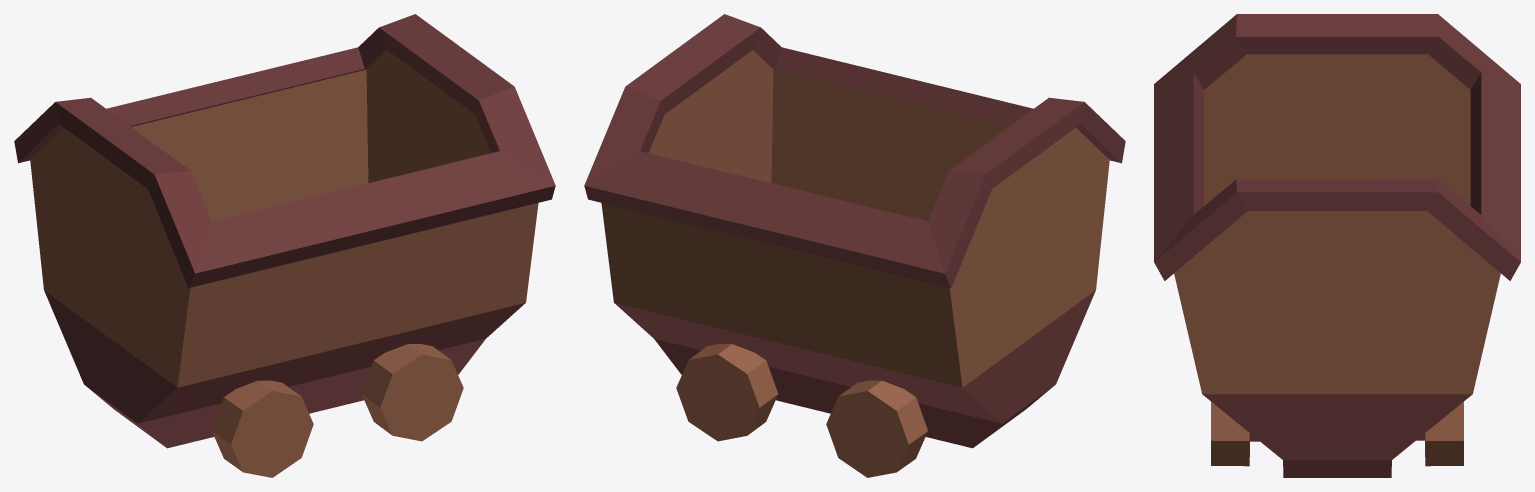
The model's file is RustedMetalMechSmallMinecart1.fbx.
3 renders of one model, left to right at view 1: azimuth 30°, elevation 25°; view 2: azimuth 150°, elevation 25°; view 3: azimuth 270°, elevation 25°, orthographic.
Visible parts, largest first — view 1: MineCarttGeometry, MineCartLeftCOL, MineCartFrontCOL, MineCartBackCOL, MineCartBaseCOL, Wheel01, Wheel02; view 2: MineCarttGeometry, MineCartFrontCOL, MineCartBackCOL, Wheel03, Wheel04, MineCartBaseCOL; view 3: MineCarttGeometry, MineCartBackCOL, MineCartFrontCOL, MineCartBaseCOL, Wheel01, Wheel03, MineCartLeftCOL.
Part boxes in pixels (left/top/right/bottom): MineCarttGeometry: left=14, top=14, right=555, bottom=444; MineCartLeftCOL: left=19, top=47, right=368, bottom=221; MineCartFrontCOL: left=47, top=101, right=197, bottom=386; MineCartBackCOL: left=365, top=14, right=512, bottom=174; MineCartBaseCOL: left=76, top=328, right=488, bottom=448; Wheel01: left=361, top=344, right=463, bottom=441; Wheel02: left=212, top=380, right=313, bottom=477; MineCarttGeometry: left=584, top=14, right=1120, bottom=448; MineCartFrontCOL: left=954, top=100, right=1125, bottom=381; MineCartBackCOL: left=640, top=16, right=772, bottom=182; Wheel03: left=676, top=344, right=778, bottom=441; Wheel04: left=826, top=380, right=927, bottom=477; MineCartBaseCOL: left=919, top=290, right=1095, bottom=446; MineCarttGeometry: left=1154, top=14, right=1520, bottom=477; MineCartBackCOL: left=1207, top=179, right=1519, bottom=394; MineCartFrontCOL: left=1194, top=14, right=1434, bottom=205; MineCartBaseCOL: left=1205, top=394, right=1459, bottom=477; Wheel01: left=1211, top=402, right=1249, bottom=466; Wheel03: left=1425, top=402, right=1463, bottom=466; MineCartLeftCOL: left=1470, top=73, right=1481, bottom=214.
Size of what is drawn, in the model's own units: 192 by 162 by 166.
